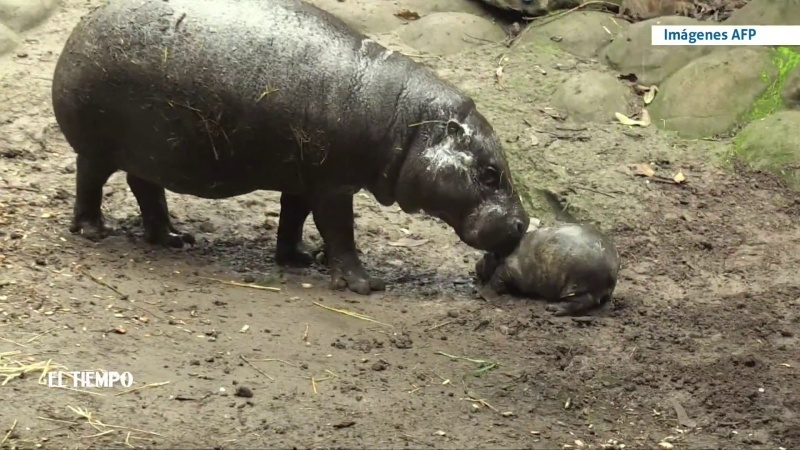hipopotamo: (46, 1, 529, 329), (472, 204, 629, 337)
